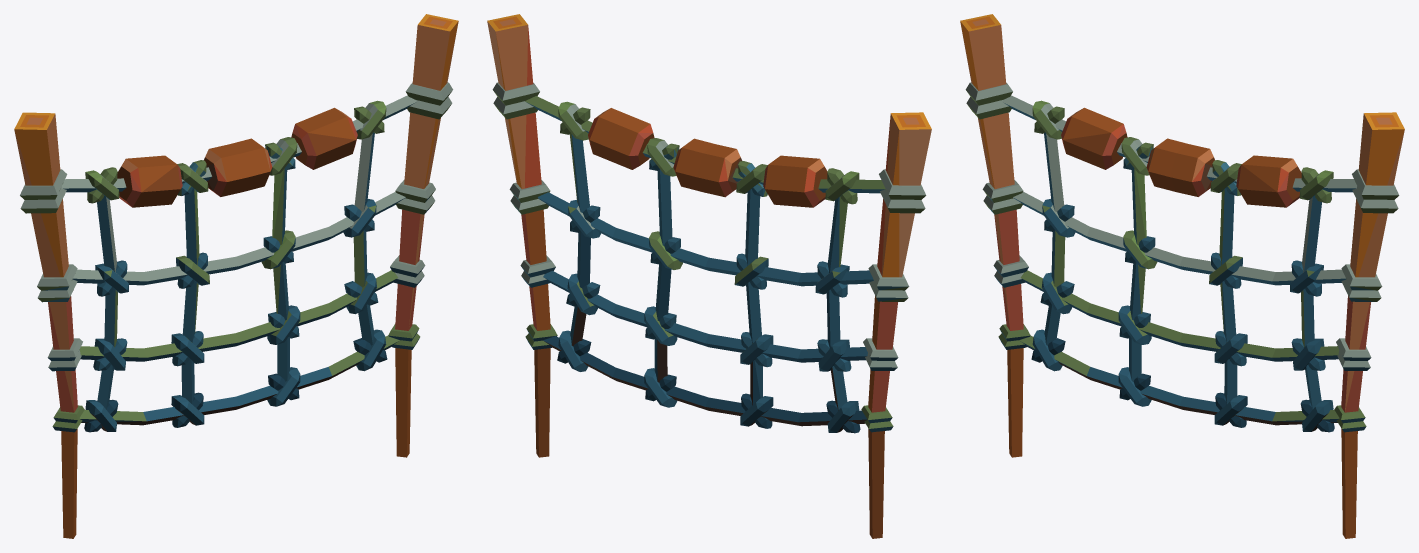
The model's file is itch_fishing_village_net.glb.
The picture shows the model from 3 angles, left to right: view 1: azimuth 30°, elevation 25°; view 2: azimuth 150°, elevation 25°; view 3: azimuth 330°, elevation 25°; orthographic projection.
Visible parts, largest first — view 1: net.001; view 2: net.001; view 3: net.001.
Boxes of the visible parts, x1,y1,x2,y2 form: net.001: [14, 14, 458, 538]; net.001: [487, 14, 931, 538]; net.001: [960, 14, 1404, 538].
Bounding box in the file's own units: 1.18 × 1.08 × 0.1281.
